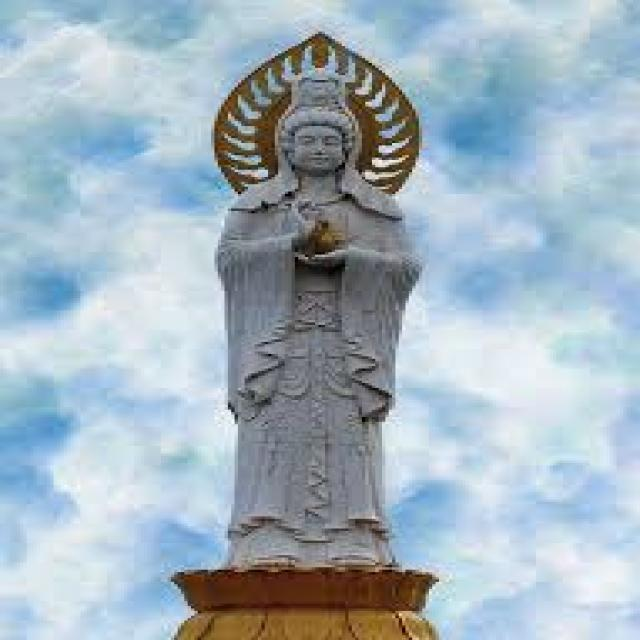Guan Yin: (213, 71, 423, 498)
